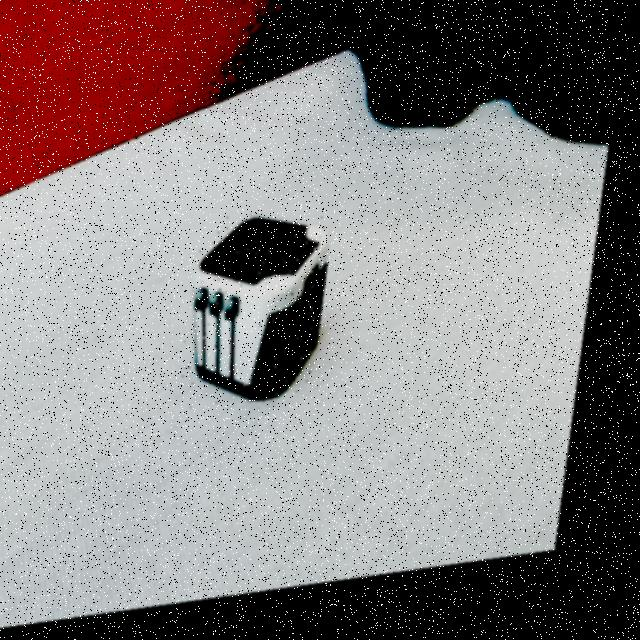adapter: (187, 213, 343, 419)
